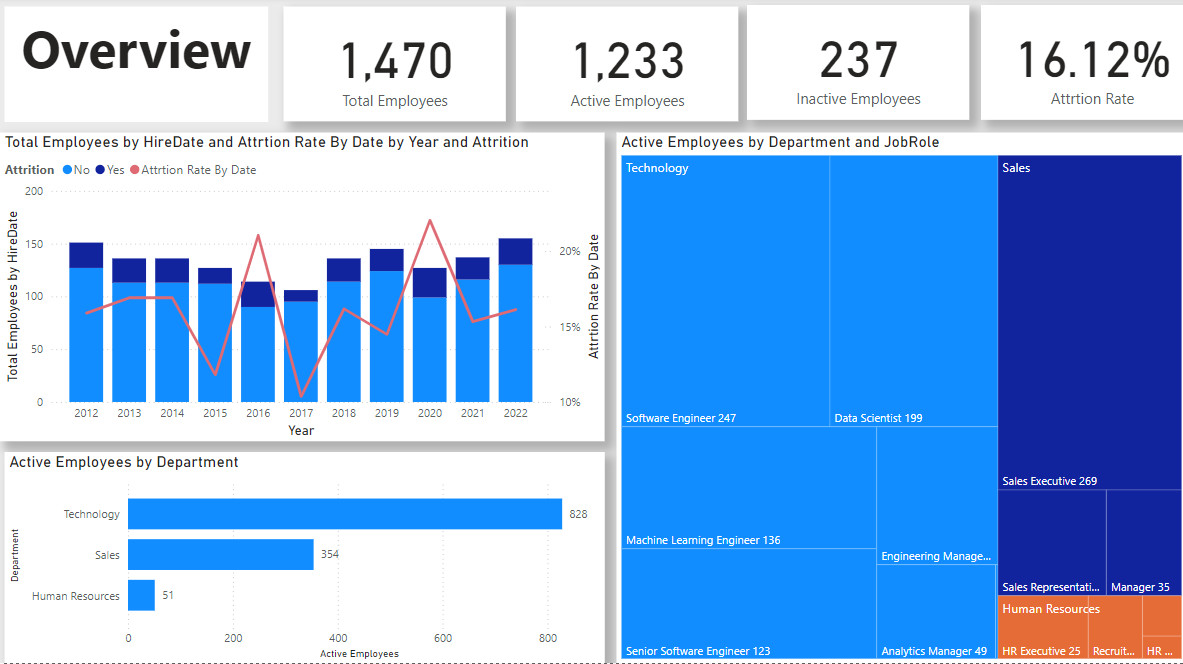

Layout of this report page (visuals, bound fields, positions):
{"tool":"powerbi","page":{"name":"Overview","canvas":[1280,720],"ordinal":0},"visuals":[{"type":"card","fields":{"Values":["-Measures.Total Employee"]},"box":[306.7,11.8,240,124],"z":0},{"type":"card","fields":{"Values":["-Measures.Num of attrition"]},"box":[557.7,11.8,240,124],"z":1000},{"type":"card","fields":{"Values":["-Measures.Inactive Employees"]},"box":[807.1,10.1,240,124],"z":2000},{"type":"card","fields":{"Values":["-Measures.Attrtion Rate"]},"box":[1059.3,10.1,240,124],"z":3000},{"type":"lineStackedColumnComboChart","fields":{"Category":["DimDate.Year"],"Y":["-Measures.Total Employees by HireDate"],"Y2":["-Measures.Attrtion Rate By Date"],"Series":["DimEmployee.Attrition"]},"box":[0,147.3,652.5,333.6],"z":4000},{"type":"clusteredBarChart","fields":{"Y":["-Measures.Active Employees"],"Category":["DimEmployee.Department"]},"box":[4.9,492.2,647.7,228.3],"z":5000},{"type":"treemap","fields":{"Values":["-Measures.Active Employees"],"Group":["DimEmployee.Department"],"Details":["DimEmployee.JobRole"]},"box":[665.5,147.3,615.3,573.2],"z":6000},{"type":"textbox","box":[5.1,11.8,284.8,124.7],"z":6001}]}

Visuals, with their boxes in screenshot pixels (x1, y1, x2, y2), scaled from the page's 1280x720 canvas onto the 1183x664 screenshot:
card - -Measures.Total Employee: detection(283, 11, 505, 125)
card - -Measures.Num of attrition: detection(515, 11, 737, 125)
card - -Measures.Inactive Employees: detection(746, 9, 968, 124)
card - -Measures.Attrtion Rate: detection(979, 9, 1182, 124)
lineStackedColumnComboChart - DimDate.Year x -Measures.Total Employees by HireDate: detection(0, 136, 603, 443)
clusteredBarChart - -Measures.Active Employees x DimEmployee.Department: detection(5, 454, 603, 663)
treemap - -Measures.Active Employees x DimEmployee.Department: detection(615, 136, 1182, 663)
textbox: detection(5, 11, 268, 126)
